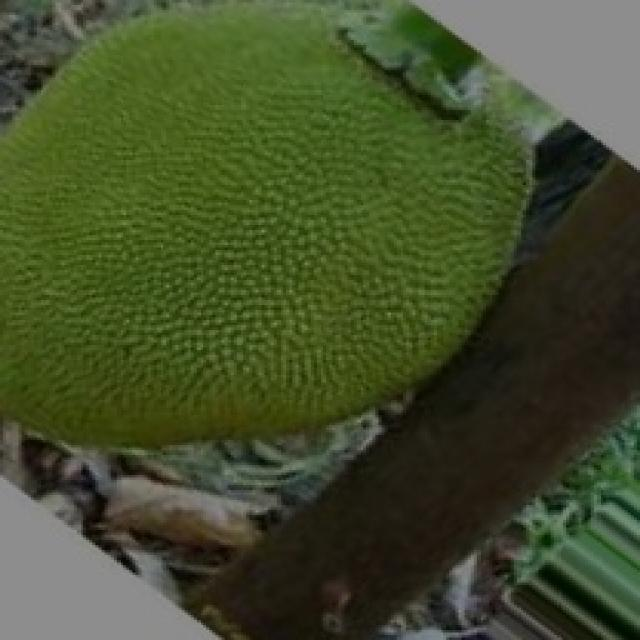Fruit: (237, 0, 597, 410)
